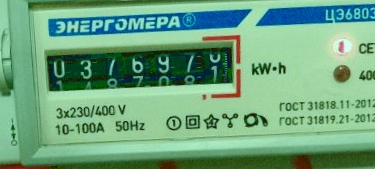0: (49, 55, 65, 77)
1: (207, 62, 219, 83)
3: (77, 57, 93, 79)
6: (128, 49, 144, 73)
7: (102, 52, 119, 77), (180, 49, 196, 73)
9: (154, 49, 169, 72)
screen: (34, 22, 247, 112)
